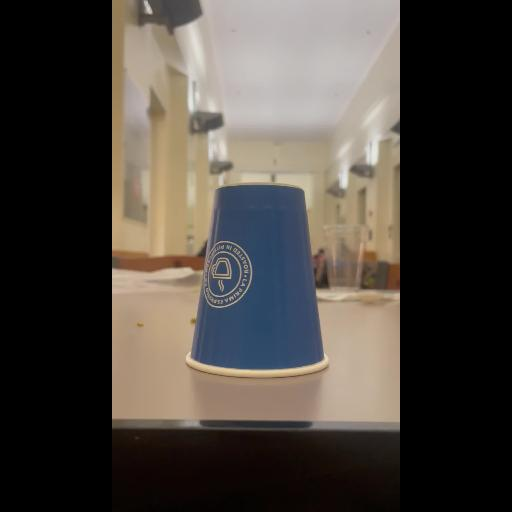lp_paper_cup: (189, 182, 329, 388)
